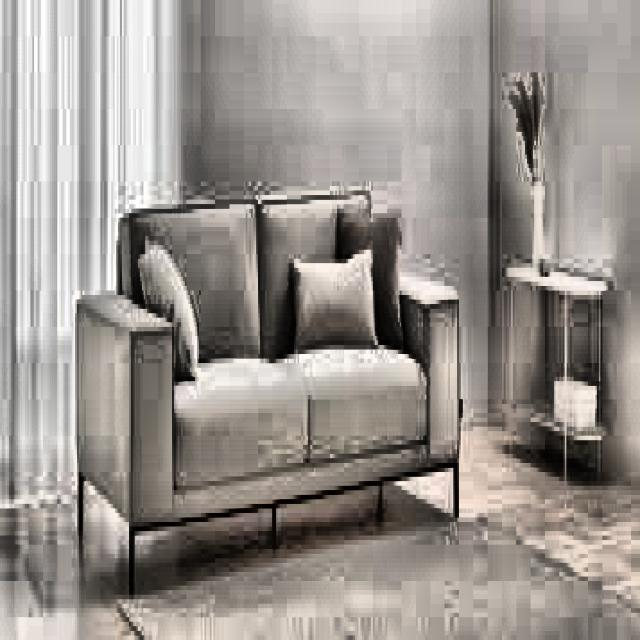sofa: (55, 200, 468, 558)
